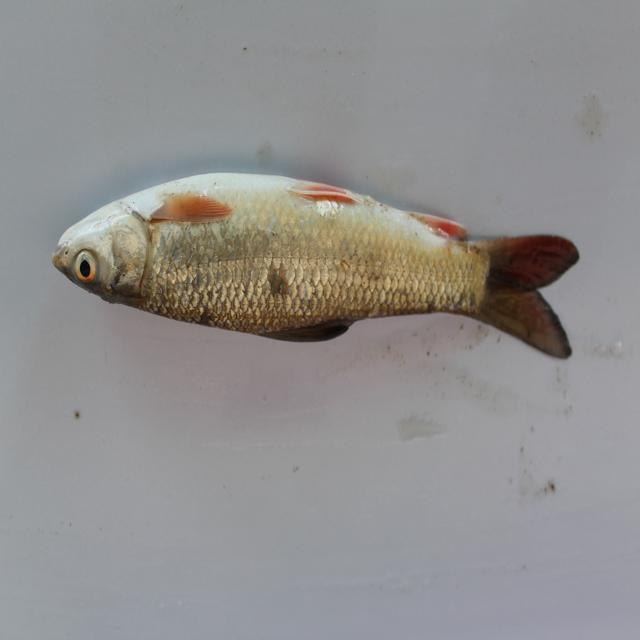Mori: (61, 148, 586, 403)
